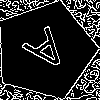A: (20, 26, 78, 83)
